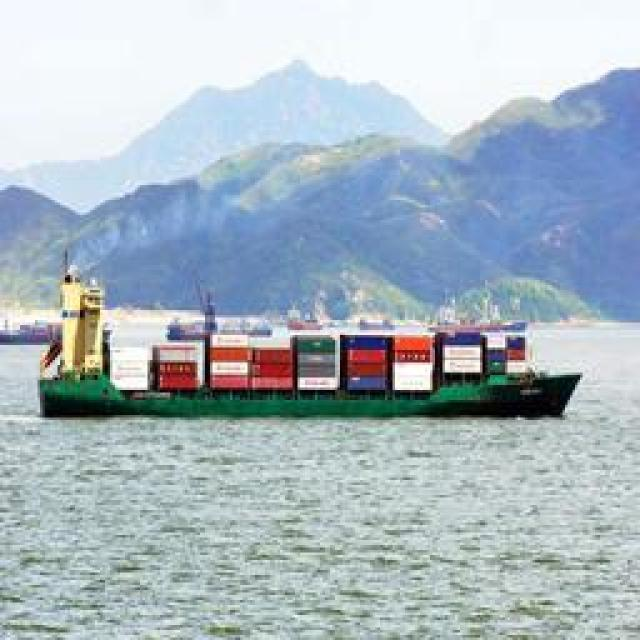CIV_Ship: (35, 296, 588, 422)
